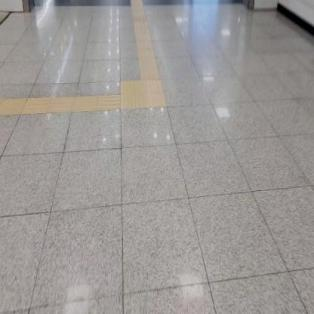Podoctatil: (110, 66, 180, 127), (0, 93, 121, 115), (130, 0, 161, 79)
